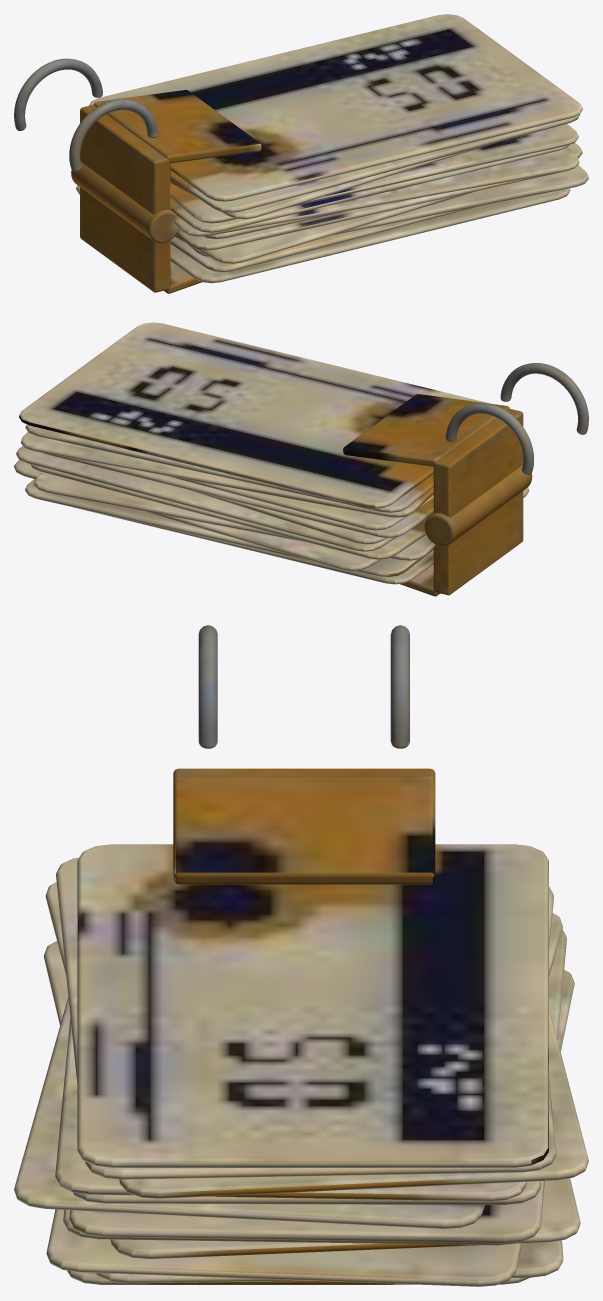
Rendered from mark_stack.glb.
3 views of the same model, one above another, from view 1: azimuth 30°, elevation 25°; view 2: azimuth 150°, elevation 25°; view 3: azimuth 270°, elevation 25° (orthographic). The views are drawn at different scales.
Parts seen in each view (by area): view 1: mark_stack; view 2: mark_stack; view 3: mark_stack.
Boxes of the visible parts, x1,y1,x2,y2 form: mark_stack: (14, 14, 588, 293); mark_stack: (14, 322, 588, 596); mark_stack: (14, 625, 588, 1286).
Bounding box in the file's own units: 0.1144 × 0.0436 × 0.0658.
Materials: 1 (1 with a texture image).
